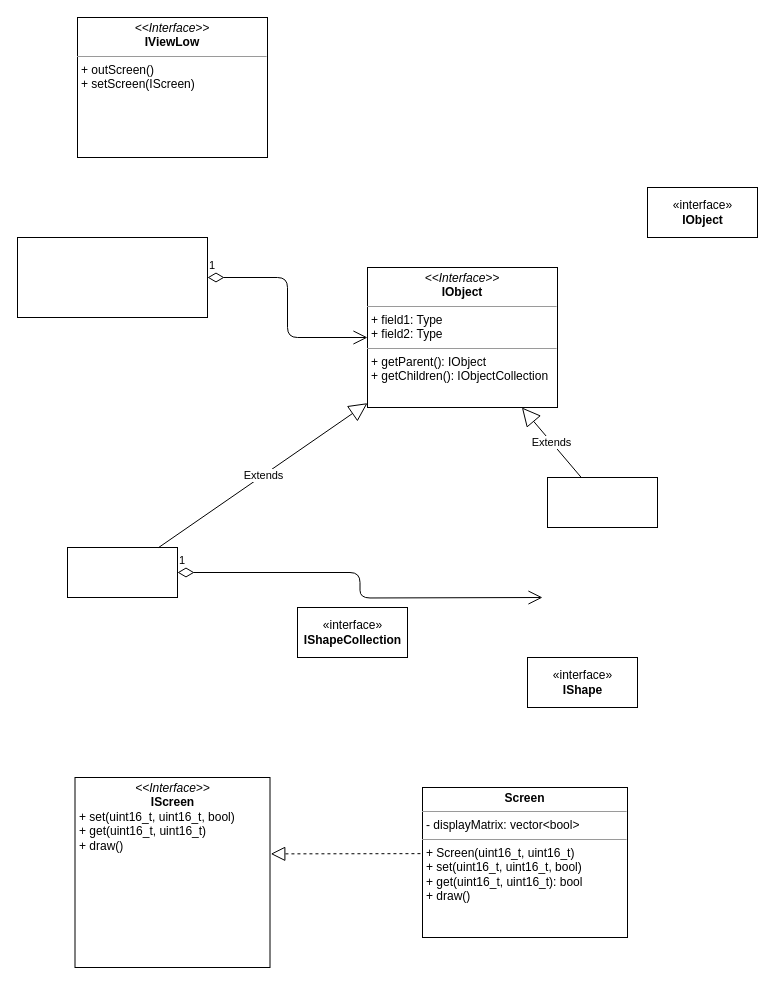
Some shapes in this 775 by 985 pixel diagram are drawn without their labels. Here are the shapes that lost their labels. From the top down, the box of each, then its label:
(16, 236, 208, 318): <<Interface>> IObjectCollection + add(IObject) + get(number): IObject
(546, 476, 658, 528): «interface» INonViewObject
(66, 546, 178, 598): «interface» IViewObject
